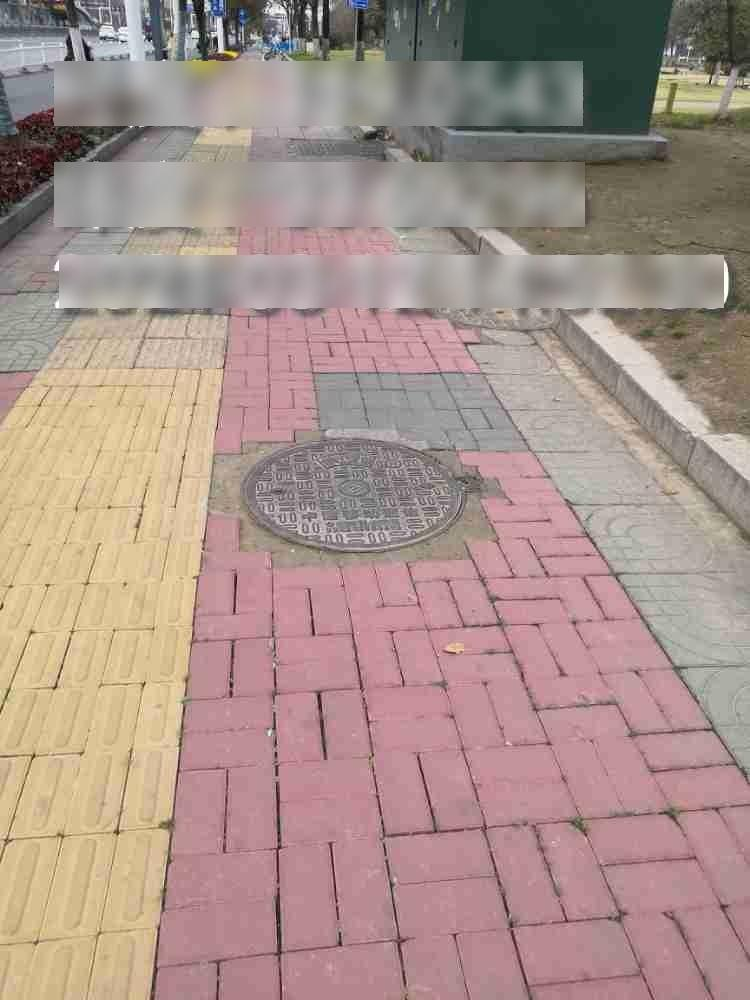wellcover: (239, 426, 489, 564)
